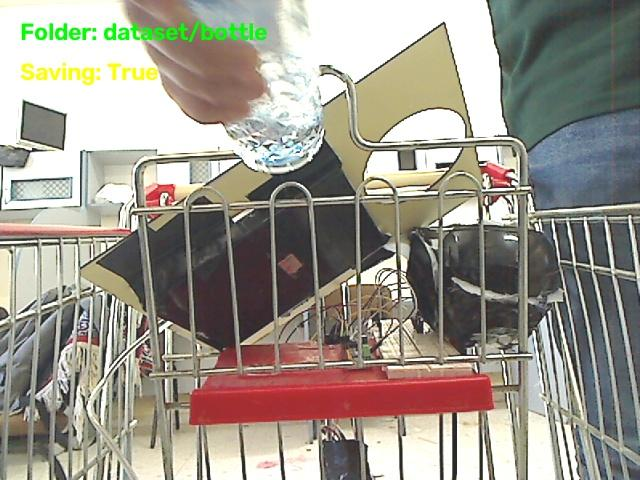Bottle: (188, 0, 323, 173)
